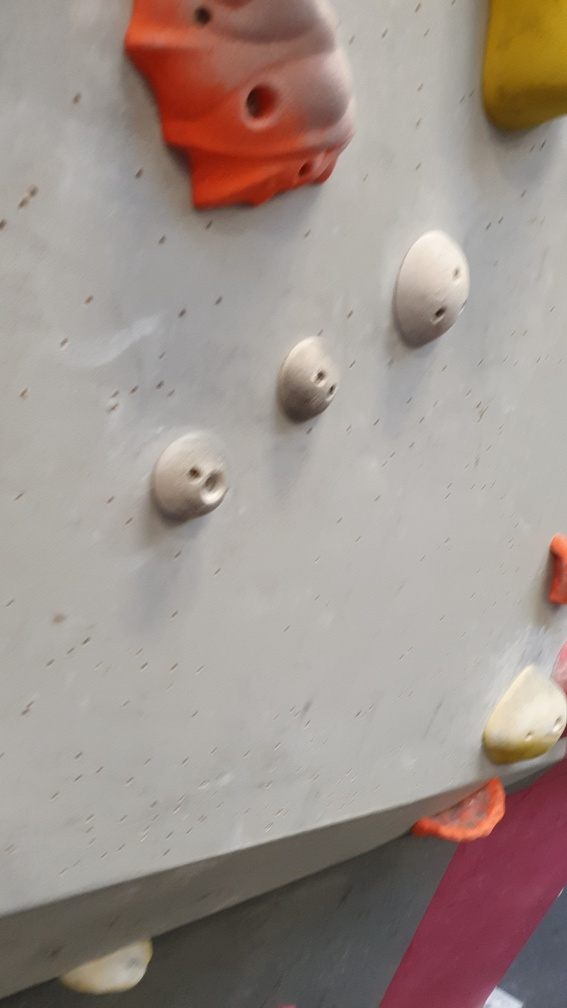Jug: (113, 1, 362, 213), (411, 777, 511, 848)
Sloper: (391, 229, 472, 351), (150, 428, 234, 529), (275, 330, 342, 426)
